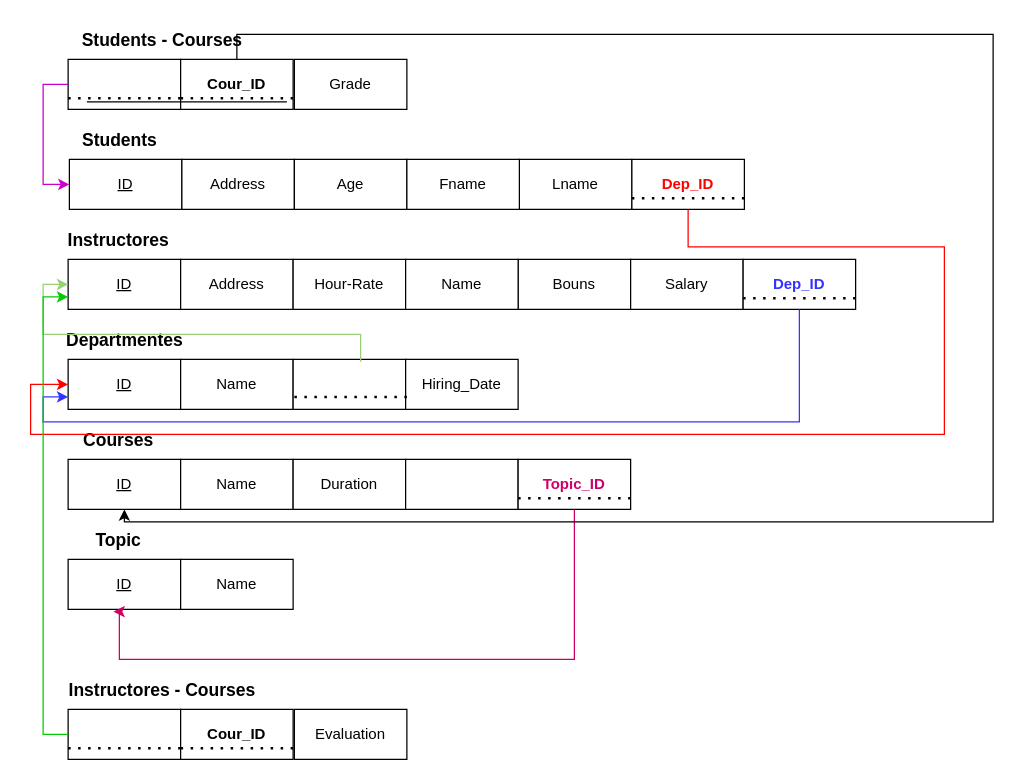
Some shapes in this 1025 by 781 pixel diagram are drawn without their labels. The centre of each missing label's shape, as x and y in pixels:
"Description" belongs at pixel 461 483.
"Inst_ID" belongs at pixel 124 733.
"Inst_Manage_ID" belongs at pixel 349 383.
"St_ID" belongs at pixel 124 83.
